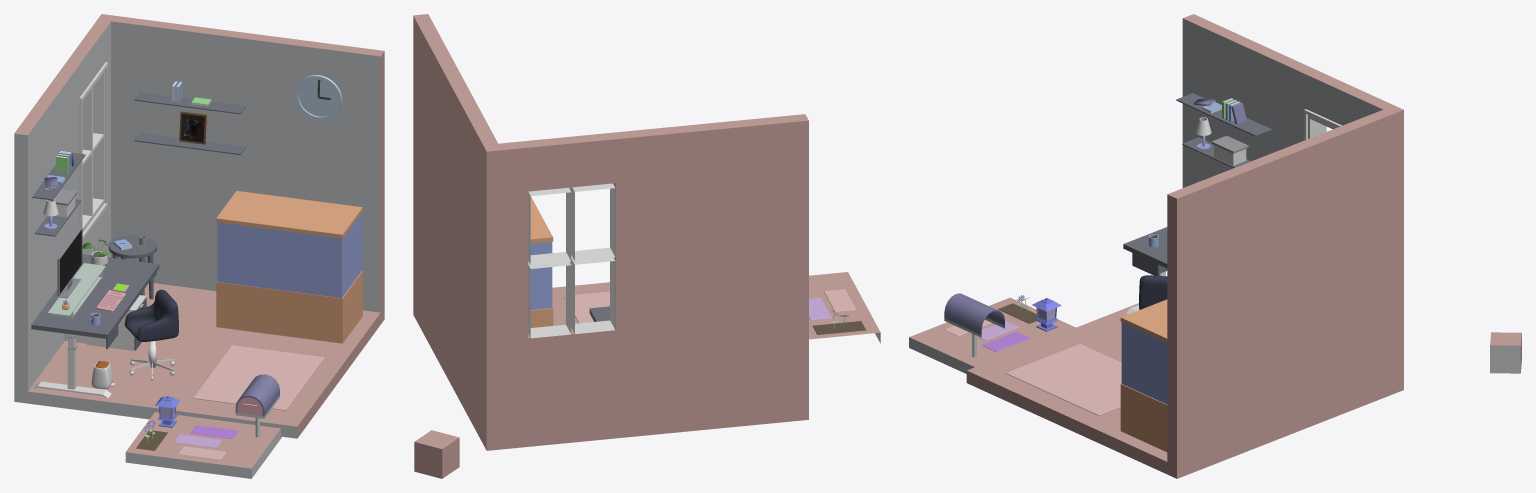
Rendered from room2.glb.
3 views of the same model, side by side, from view 1: azimuth 30°, elevation 25°; view 2: azimuth 150°, elevation 25°; view 3: azimuth 270°, elevation 25° (orthographic). The views are drawn at different scales.
Visible parts, largest first — view 1: Body, Aquarium, Desks, Floor Items, Mini Floor, Shelves, Table Stuff, Chair, Clock, Mailbox, Computer, Lamp (+4 smaller); view 2: Body, Mini Floor, Aquarium, Cube, Floor Items, Dirt, FloorThird; view 3: Body, Aquarium, Floor Items, Mini Floor, Shelves, Mailbox, Desks, Cube, Chair, Lamp.
Boxes of the visible parts, left/top/right/bottom form: Body: left=14, top=14, right=384, bottom=438; Aquarium: left=216, top=190, right=362, bottom=343; Desks: left=31, top=235, right=159, bottom=398; Floor Items: left=87, top=295, right=324, bottom=410; Mini Floor: left=125, top=412, right=281, bottom=478; Shelves: left=32, top=81, right=246, bottom=236; Table Stuff: left=48, top=236, right=147, bottom=325; Chair: left=124, top=289, right=178, bottom=341; Clock: left=295, top=75, right=342, bottom=120; Mailbox: left=235, top=374, right=279, bottom=437; Computer: left=57, top=227, right=82, bottom=298; Lamp: left=155, top=396, right=180, bottom=427; Body: left=413, top=14, right=808, bottom=450; Mini Floor: left=809, top=272, right=880, bottom=343; Aquarium: left=530, top=196, right=553, bottom=327; Cube: left=414, top=430, right=459, bottom=478; Floor Items: left=564, top=291, right=609, bottom=323; Dirt: left=812, top=321, right=865, bottom=334; FloorThird: left=824, top=289, right=856, bottom=311; Body: left=966, top=14, right=1403, bottom=478; Aquarium: left=1120, top=299, right=1167, bottom=451; Floor Items: left=1006, top=344, right=1121, bottom=415; Mini Floor: left=909, top=297, right=1075, bottom=373; Shelves: left=1176, top=93, right=1271, bottom=167; Mailbox: left=944, top=293, right=1004, bottom=357; Desks: left=1123, top=227, right=1167, bottom=313; Cube: left=1490, top=332, right=1521, bottom=373; Chair: left=1139, top=275, right=1167, bottom=309; Lamp: left=1032, top=298, right=1061, bottom=331.
Size of the model in its own units: 27.58 by 19.65 by 38.64.
Materials: 45 (1 with a texture image).
